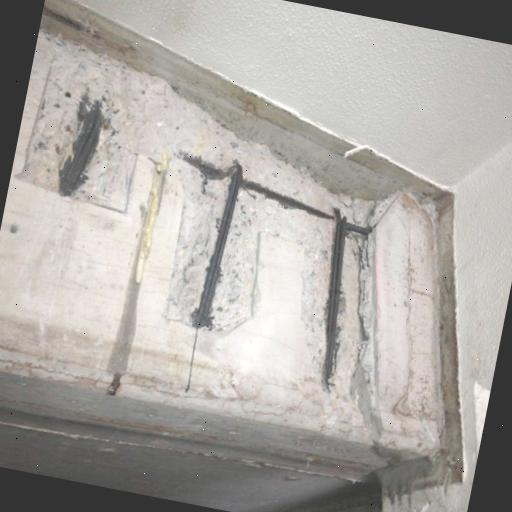spalling: (14, 23, 398, 397)
